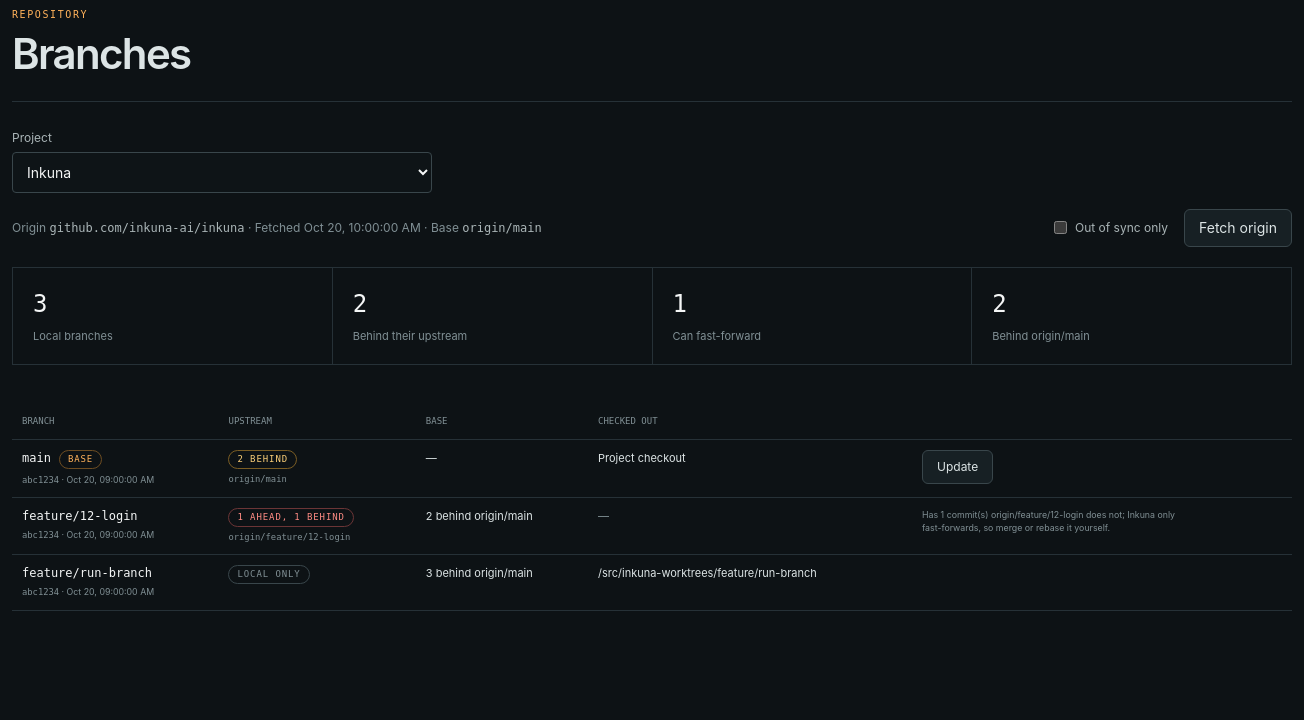
BranchesView › says which settings an update took as merged
The width and height of the screenshot is (1304, 720).
Click the button with aria-label "Update main" at (958, 466), box [922,450,993,484]
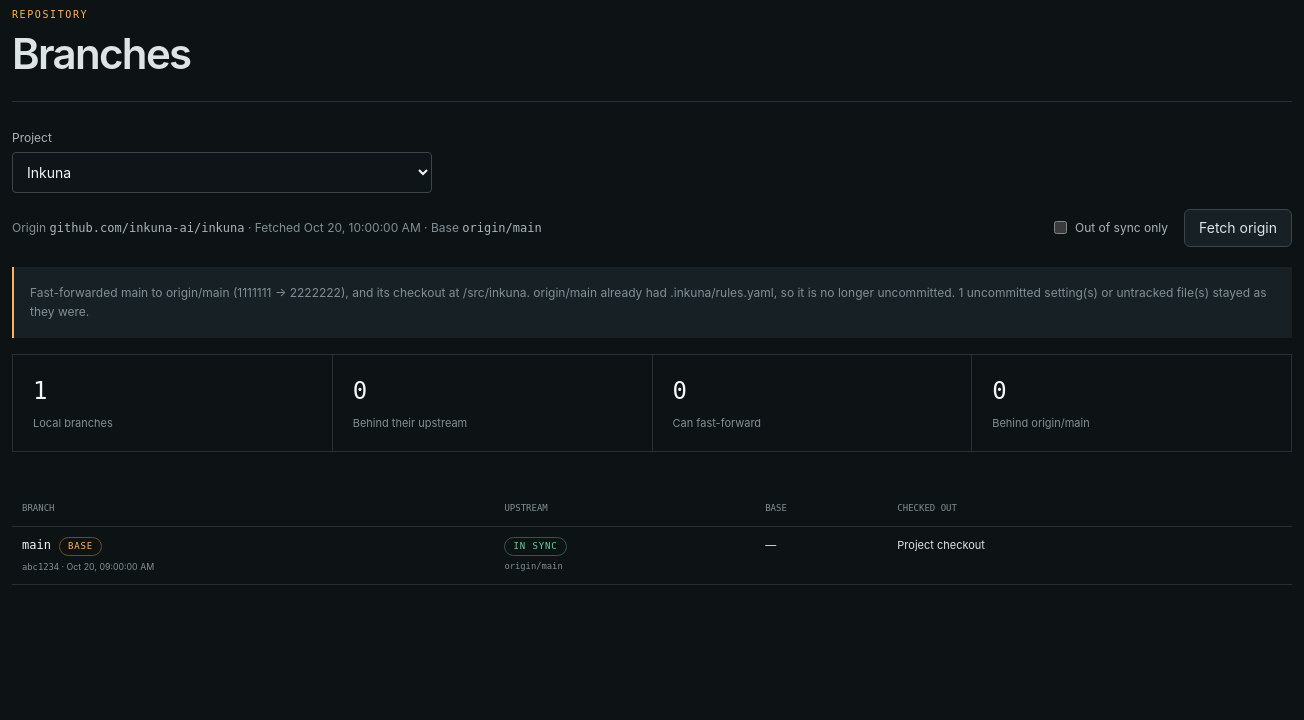
Check: the text "Fast-forwarded main to origin/main (1111111 → 2222222), and its checkout at /src/inkuna. origin/main already had .inkuna" is shown, box [30,284,1267,319]
